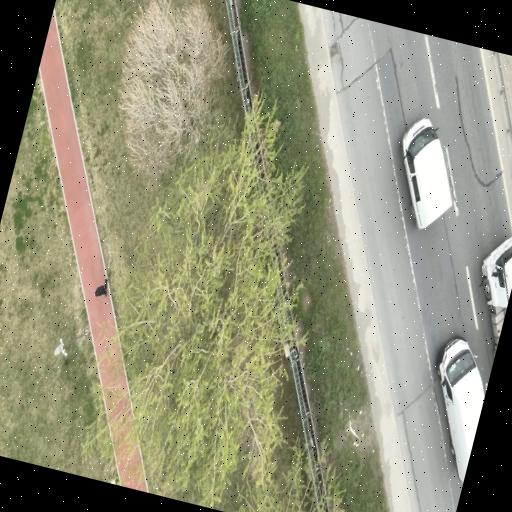car: (437, 338, 485, 483), (400, 118, 453, 229)
person: (94, 280, 108, 298)
truck: (481, 237, 511, 359)
